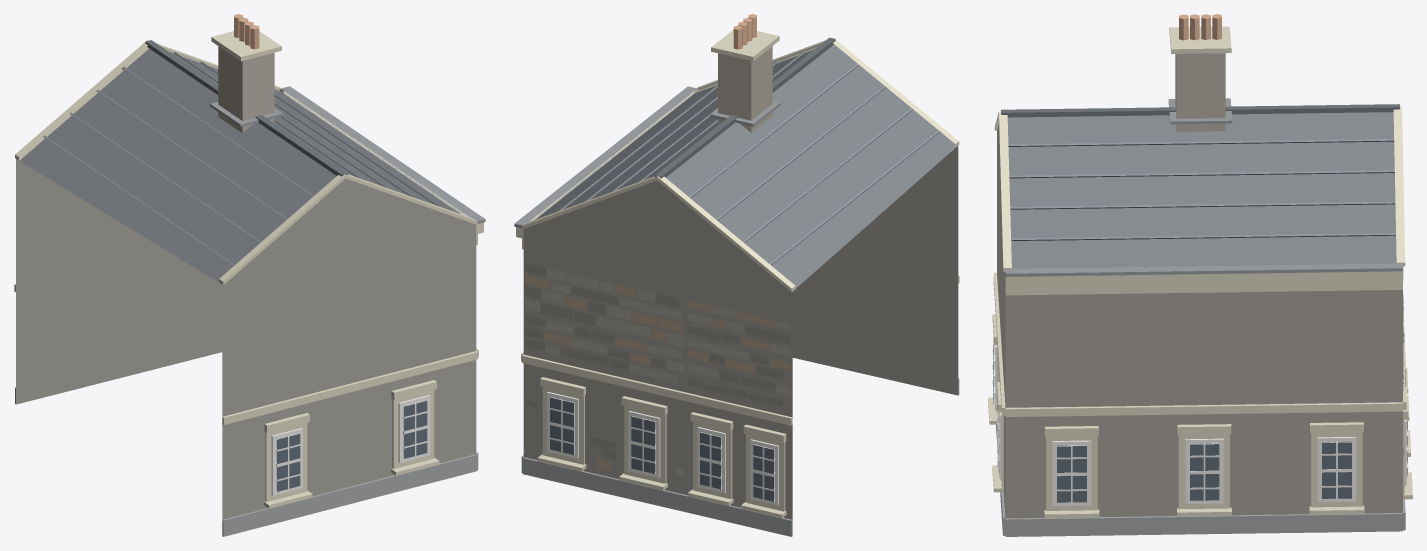
3 views of the same model, side by side, from view 1: azimuth 30°, elevation 25°; view 2: azimuth 150°, elevation 25°; view 3: azimuth 270°, elevation 25° (orthographic). The views are drawn at different scales.
Parts seen in each view (by area): view 1: rubble, slate, dress_buff, plinth, slate_lt, chim_stone, lead, frame, slate_dk, window_glass_009, window_glass_008, pot; view 2: rubble, slate, dress_buff, rubble_dk, rubble_lt, plinth, frame, slate_lt, rubble_rust, chim_stone, lead, slate_dk (+5 smaller); view 3: rubble, slate, dress_buff, plinth, slate_lt, frame, lead, chim_stone, slate_dk, window_glass_006, window_glass_005, window_glass_007 (+1 smaller).
Boxes of the visible parts, box(x1,y1,x2,y2) form: rubble: box(16, 159, 476, 519); slate: box(19, 48, 460, 282); dress_buff: box(14, 31, 483, 508); plinth: box(15, 387, 478, 536); slate_lt: box(43, 52, 440, 265); chim_stone: box(218, 46, 274, 133); lead: box(210, 86, 485, 223); frame: box(271, 395, 430, 495); slate_dk: box(145, 40, 347, 176); window_glass_009: box(403, 400, 427, 458); window_glass_008: box(276, 433, 300, 491); pot: box(234, 14, 259, 49); rubble: box(523, 146, 958, 519); slate: box(535, 44, 955, 288); dress_buff: box(516, 30, 959, 518); rubble_dk: box(525, 263, 790, 460); rubble_lt: box(525, 268, 790, 476); plinth: box(521, 378, 959, 536); frame: box(547, 392, 778, 505); slate_lt: box(557, 50, 939, 265); rubble_rust: box(525, 275, 790, 471); chim_stone: box(718, 46, 772, 132); lead: box(514, 86, 780, 228); slate_dk: box(655, 37, 835, 178); rubble: box(997, 123, 1402, 518); slate: box(1007, 112, 1396, 268); dress_buff: box(988, 26, 1412, 518); plinth: box(996, 424, 1405, 536); slate_lt: box(1008, 139, 1395, 240); frame: box(992, 341, 1408, 505); lead: box(1005, 98, 1403, 276); chim_stone: box(1175, 53, 1225, 131); slate_dk: box(1001, 104, 1399, 117); window_glass_006: box(1189, 443, 1219, 500); window_glass_005: box(1057, 445, 1086, 502); window_glass_007: box(1322, 442, 1351, 498).
Size of the model in its own units: 8.32 by 11.51 by 9.92.
